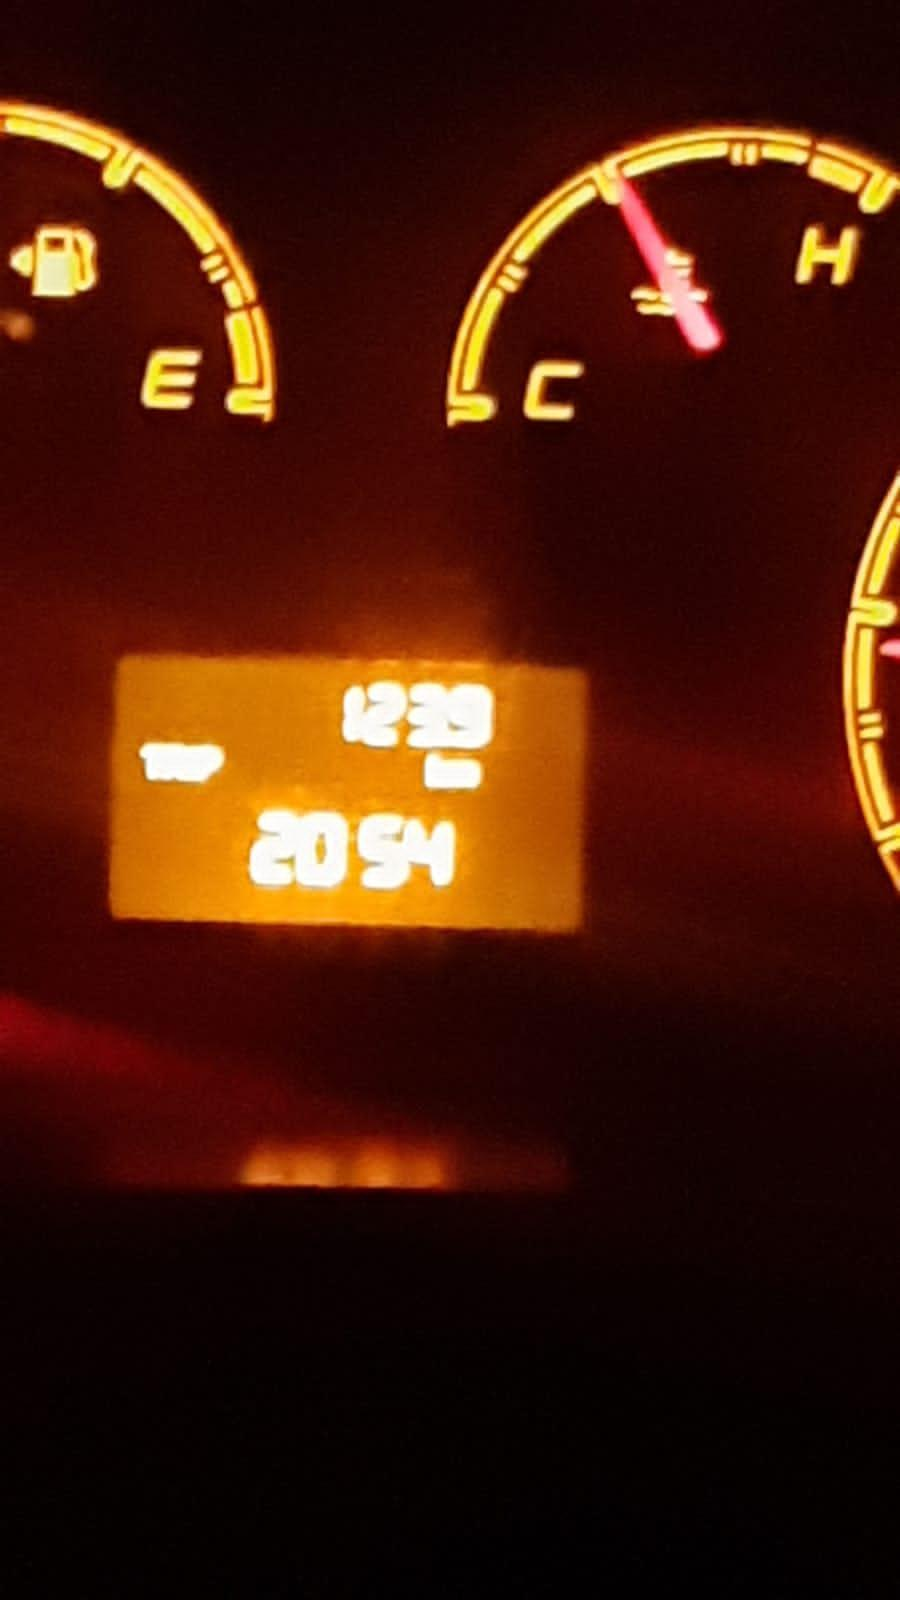0: (295, 810, 349, 889)
1: (341, 684, 365, 744)
2: (247, 809, 296, 886), (365, 680, 405, 747)
3: (405, 681, 447, 749)
4: (402, 816, 458, 888)
5: (355, 813, 410, 890)
9: (448, 682, 496, 749)
odometer: (98, 643, 601, 949)
